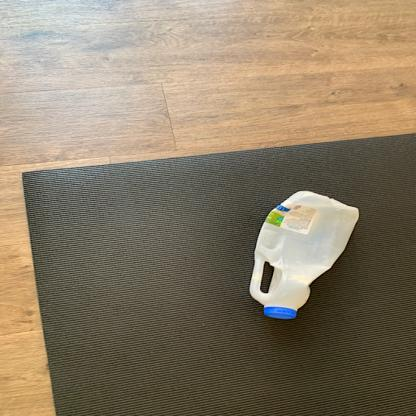trash: (248, 188, 360, 323)
